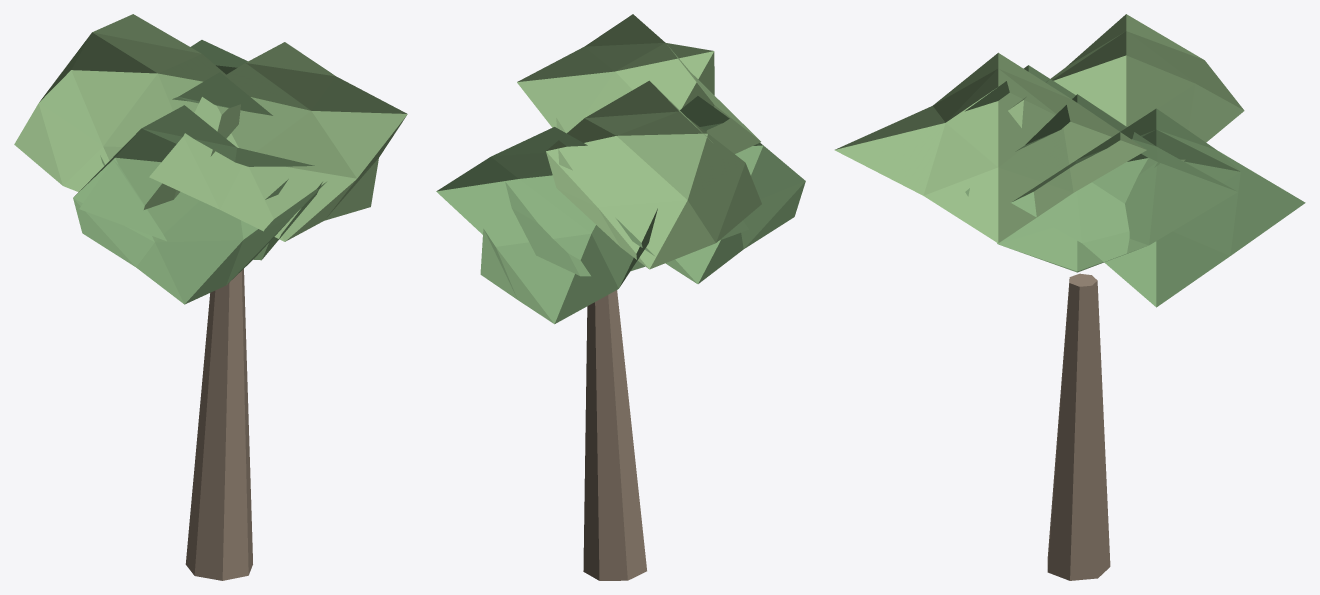
File: broadleaf_v34.glb
3 renders of one model, left to right at view 1: azimuth 30°, elevation 25°; view 2: azimuth 150°, elevation 25°; view 3: azimuth 270°, elevation 25°, orthographic. The views are drawn at different scales.
Parts seen in each view (by area): view 1: lod0; view 2: lod0; view 3: lod0.
Boxes of the visible parts, left/top/right/bottom form: lod0: left=14, top=14, right=407, bottom=580; lod0: left=436, top=14, right=805, bottom=580; lod0: left=834, top=14, right=1305, bottom=580.
Size of what is drawn, in the model's own units: 3.94 by 6.31 by 5.13.
